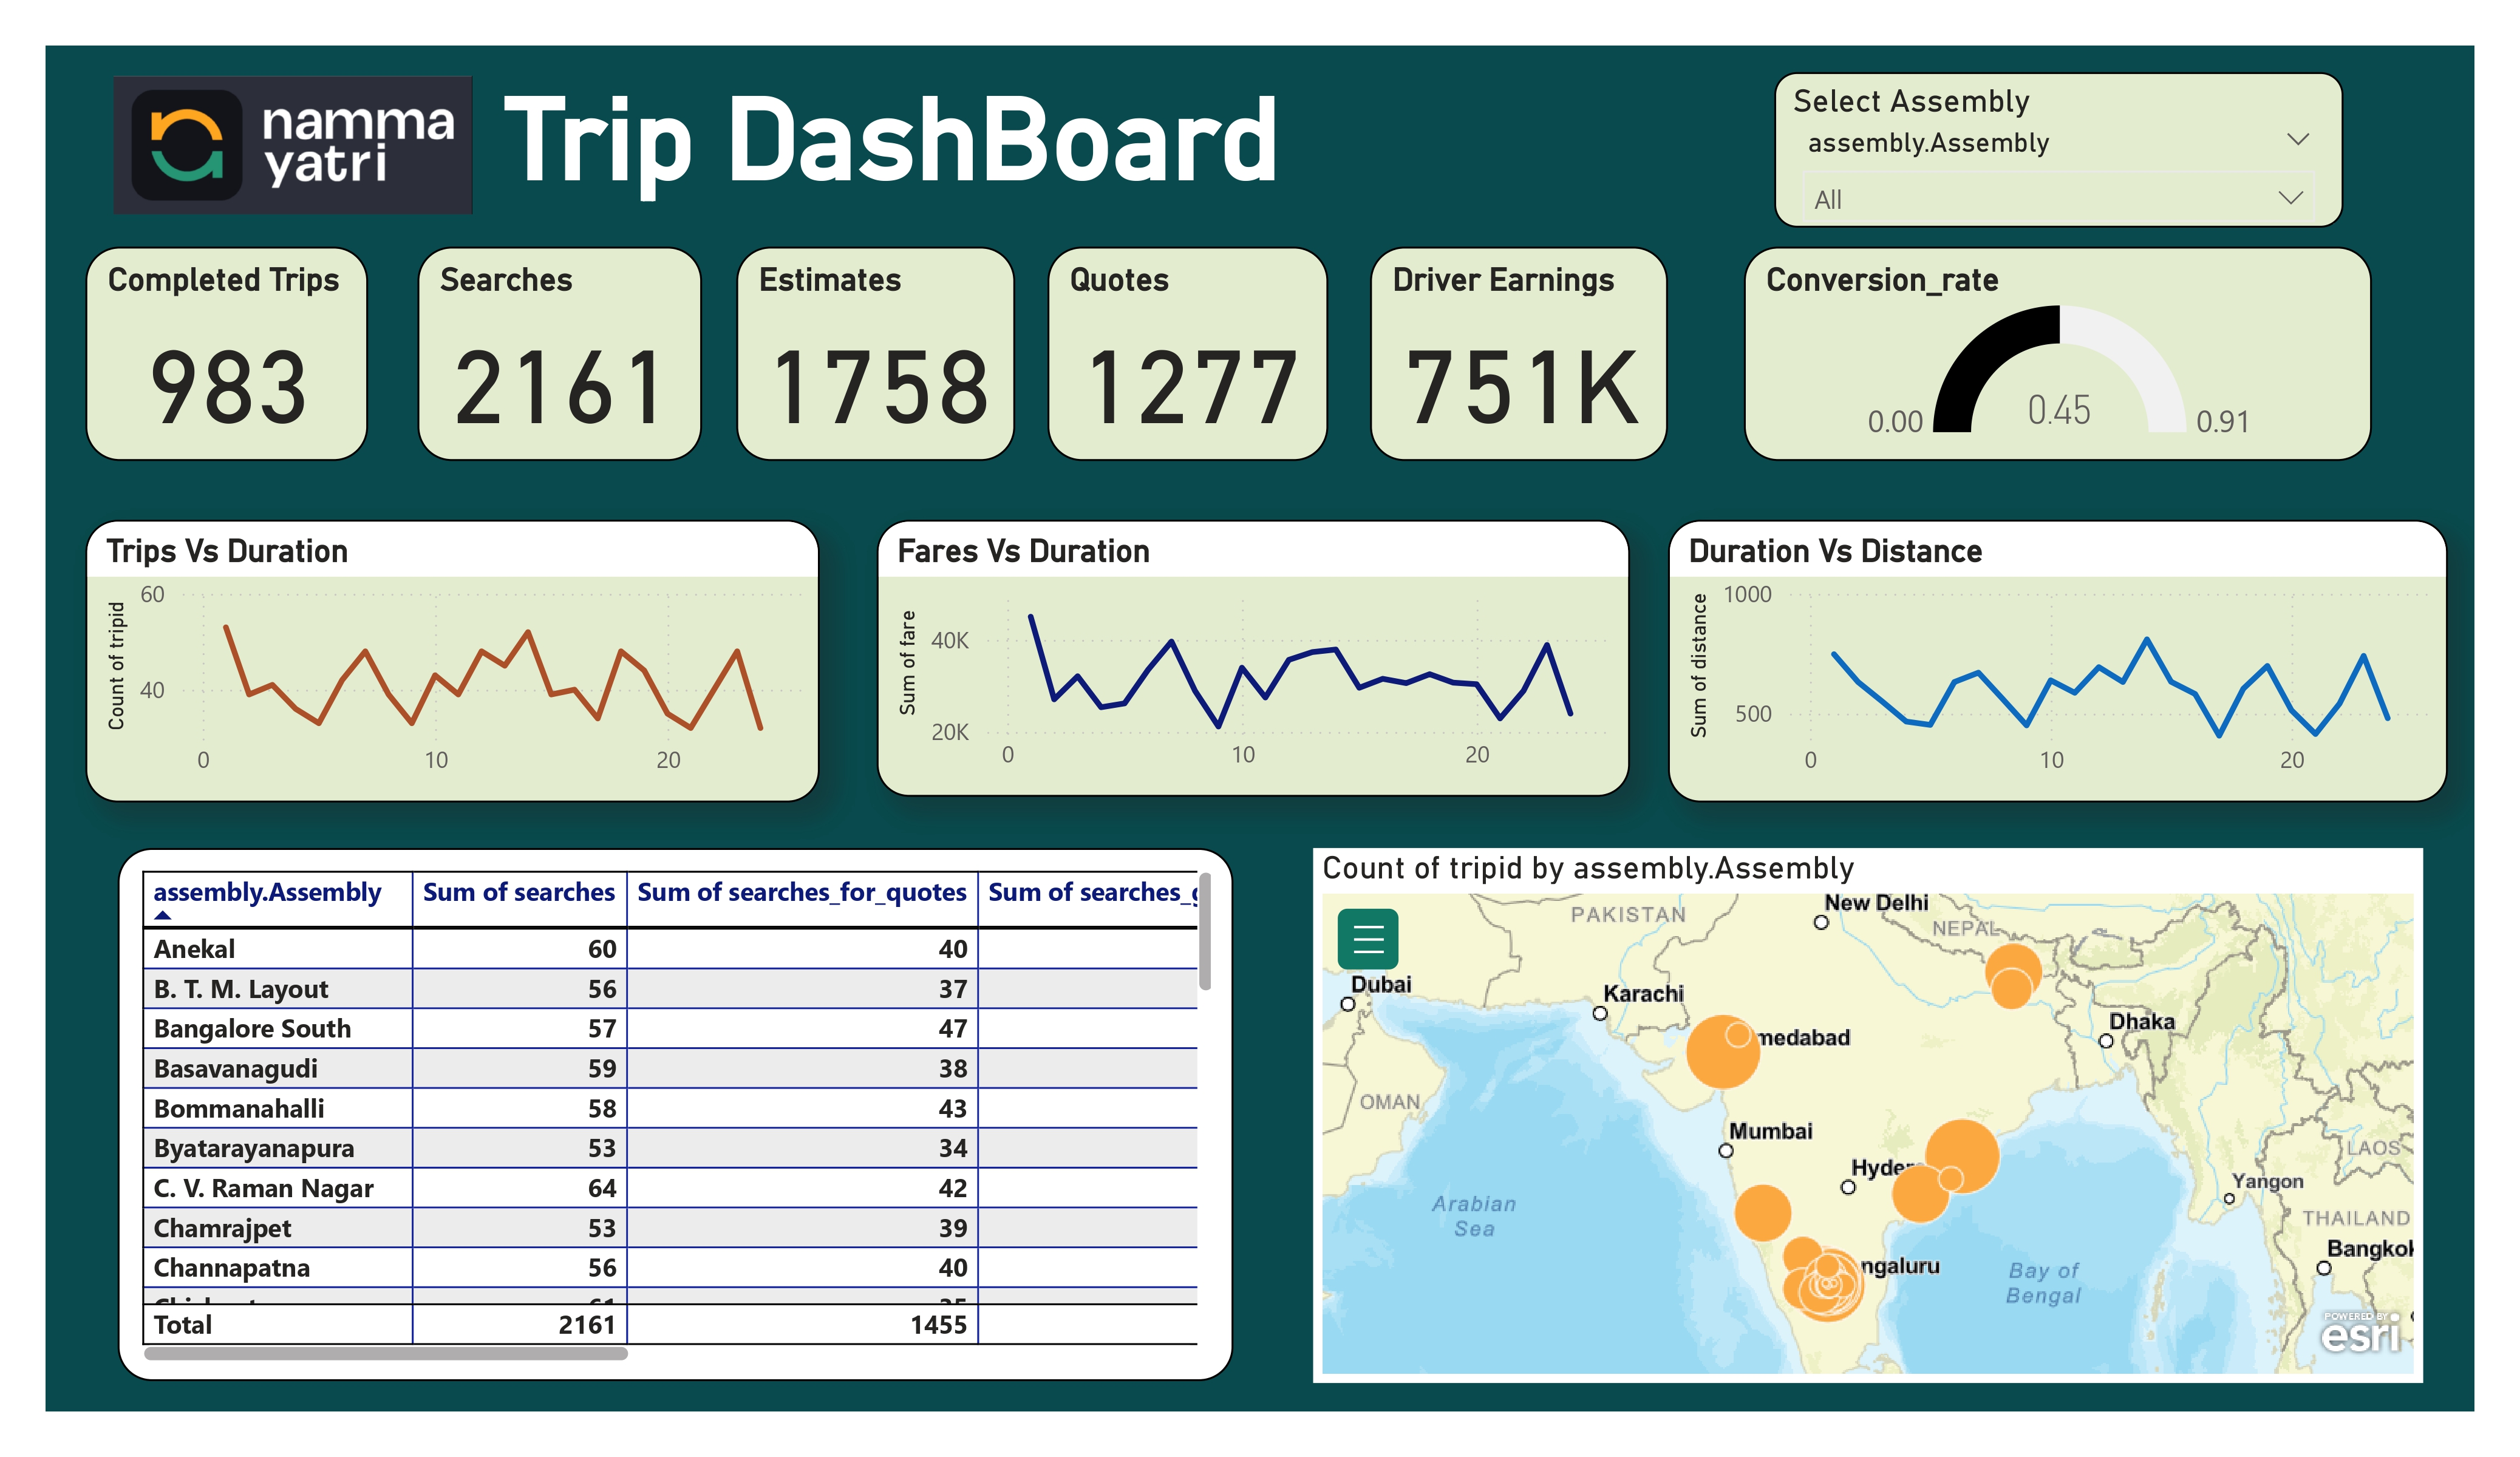

Layout of this report page (visuals, bound fields, positions):
{"tool":"powerbi","page":{"name":"Page 1","canvas":[1280,720],"ordinal":0},"visuals":[{"type":"card","title":"Completed Trips","fields":{"Values":["Sum(trip_details.end_ride)"]},"box":[21.2,106.2,148.8,112.5],"z":0},{"type":"card","title":"Searches","fields":{"Values":["Sum(trip_details.searches)"]},"box":[196.2,106.2,150,112.5],"z":1000},{"type":"card","title":"Quotes","fields":{"Values":["Sum(trip_details.searches_got_quotes)"]},"box":[527.5,106.2,148.8,112.5],"z":2000},{"type":"card","title":"Estimates","fields":{"Values":["Sum(trip_details.searches_got_estimate)"]},"box":[363.8,106.2,147.5,112.5],"z":3000},{"type":"card","title":"Driver Earnings","fields":{"Values":["Sum(trips.fare)"]},"box":[697.5,106.2,157.5,112.5],"z":4000},{"type":"gauge","fields":{"Y":["trip_details.Conversion_rate"]},"box":[895,106.2,331.2,112.5],"z":5000},{"type":"lineChart","title":"Trips Vs Duration","fields":{"Category":["trips.duration"],"Y":["CountNonNull(trips.tripid)"]},"box":[21.2,250,386.2,148.8],"z":6000},{"type":"lineChart","title":" Duration Vs Distance","fields":{"Category":["trips.duration"],"Y":["Sum(trips.distance)"]},"box":[855,250,411.2,148.8],"z":7000},{"type":"lineChart","title":"Fares Vs Duration","fields":{"Category":["trips.duration"],"Y":["Sum(trips.fare)"]},"box":[437.5,250,397.5,146.2],"z":8000},{"type":"tableEx","fields":{"Values":["Merge2.assembly.Assembly","Sum(Merge2.searches)","Sum(Merge2.searches_for_quotes)","Sum(Merge2.searches_got_estimate)","Sum(Merge2.searches_got_quotes)","Sum(Merge2.trips.fare)","Sum(Merge2.trips.distance)","trip_details.Conversion_rate"]},"box":[37.5,422.5,588.8,281.2],"z":9000},{"type":"esriVisual","fields":{"Location":["Merge2.assembly.Assembly"],"Size":["CountNonNull(Merge2.tripid)"]},"box":[667.5,422.5,585,282.5],"z":10000},{"type":"image","box":[0,11.2,260,82.5],"z":11000},{"type":"textbox","title":"Trip DashBoard","box":[236.2,13.8,975,85],"z":12000},{"type":"slicer","title":"Select Assembly","fields":{"Values":["Merge2.assembly.Assembly"]},"box":[911.2,13.8,300,82.5],"z":13000}]}

Visuals, with their boxes in screenshot pixels (x1, y1, x2, y2):
"Completed Trips" card: Rect(86, 247, 368, 460)
"Searches" card: Rect(418, 247, 703, 460)
"Quotes" card: Rect(1046, 247, 1329, 460)
"Estimates" card: Rect(736, 247, 1016, 460)
"Driver Earnings" card: Rect(1369, 247, 1668, 460)
gauge - trip_details.Conversion_rate: Rect(1744, 247, 2372, 460)
"Trips Vs Duration" lineChart: Rect(86, 520, 819, 802)
" Duration Vs Distance" lineChart: Rect(1668, 520, 2448, 802)
"Fares Vs Duration" lineChart: Rect(876, 520, 1630, 797)
tableEx - Merge2.assembly.Assembly x Sum(Merge2.searches): Rect(117, 847, 1234, 1381)
esriVisual - Merge2.assembly.Assembly x CountNonNull(Merge2.tripid): Rect(1312, 847, 2422, 1383)
image: Rect(46, 67, 539, 223)
"Trip DashBoard" textbox: Rect(494, 72, 2344, 233)
"Select Assembly" slicer: Rect(1774, 72, 2344, 228)
